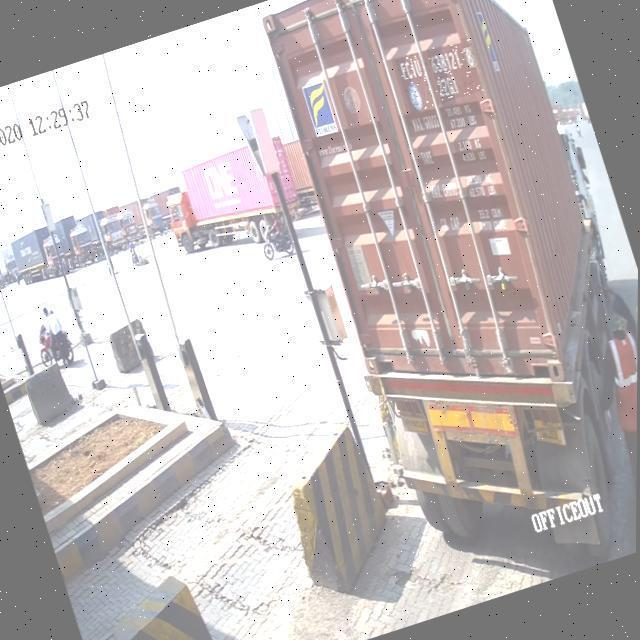ISO: (436, 74, 463, 98)
container_number: (398, 42, 471, 86)
